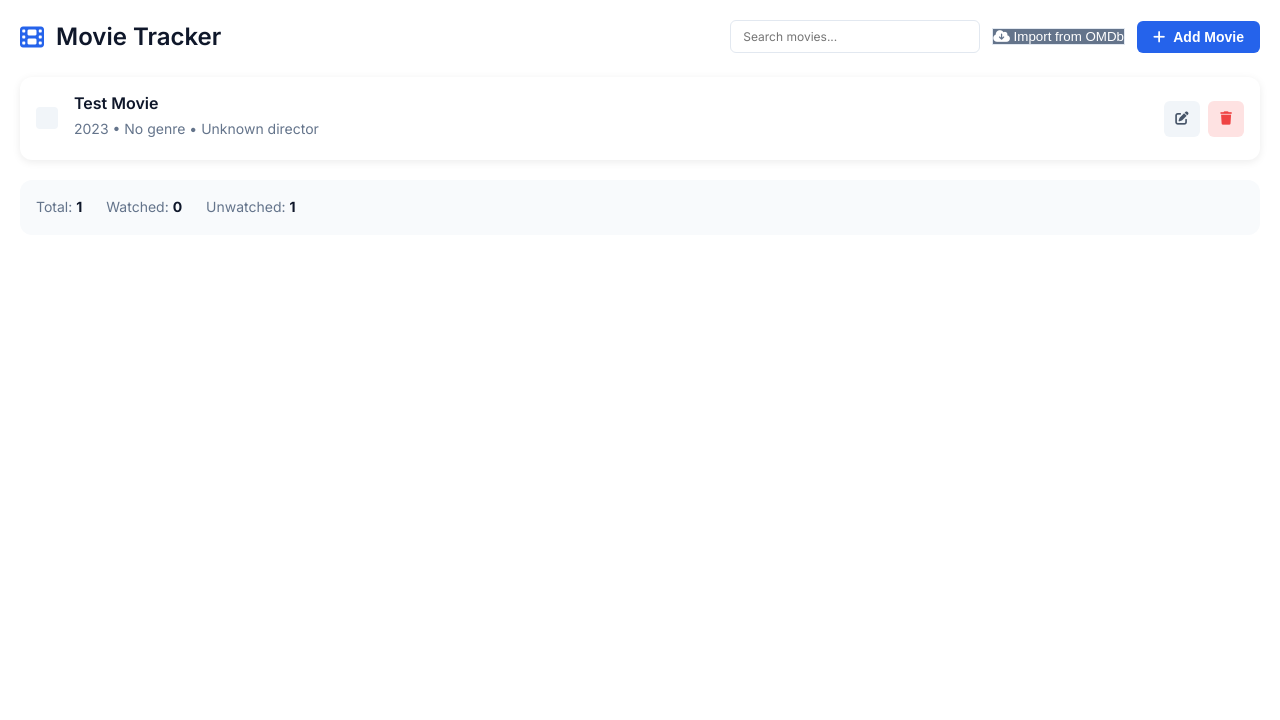
Test: MoviesSection Component › Edit Movie › opens edit form when clicking edit button
Click the button titled "Edit".
click(1182, 119)  # box x1=1164 y1=101 x2=1200 y2=137
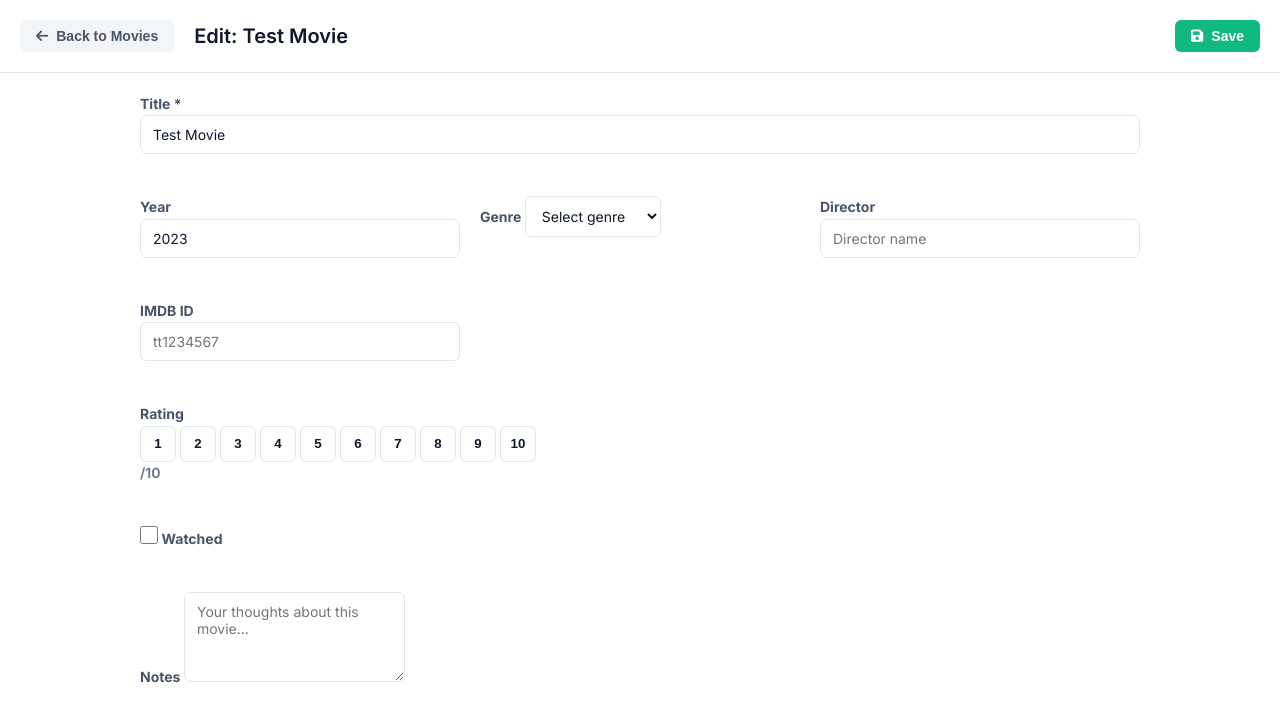
Expected: the field showing "Test Movie" is shown, x1=140 y1=115 x2=1140 y2=154
